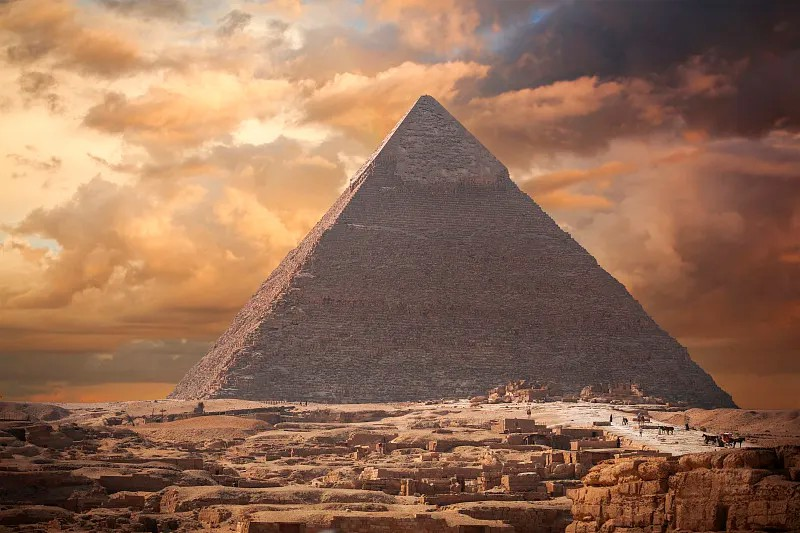Pyramid: (169, 96, 741, 408)
